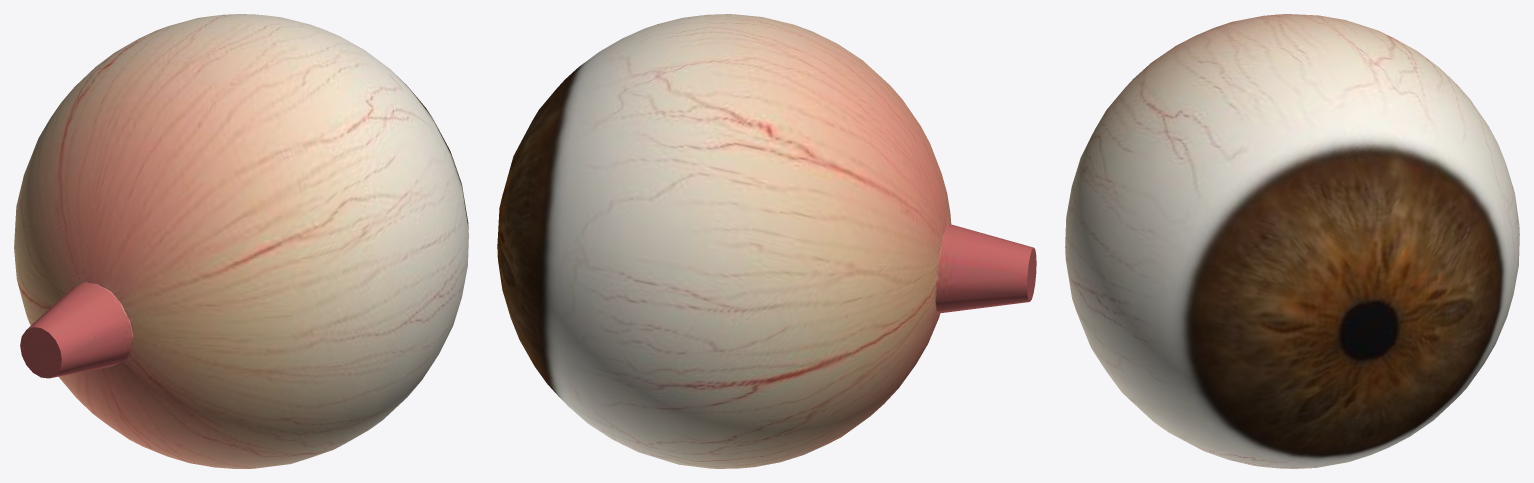
Rendered from eyeball.glb.
3 views of the same model, side by side, from view 1: azimuth 30°, elevation 25°; view 2: azimuth 150°, elevation 25°; view 3: azimuth 270°, elevation 25° (orthographic).
Visible parts, largest first — view 1: eyeball; view 2: eyeball; view 3: eyeball.
Boxes of the visible parts, box(x1,y1,x2,y2) form: eyeball: box(14, 14, 468, 468); eyeball: box(497, 14, 1036, 468); eyeball: box(1065, 14, 1519, 468).
Bounding box in the file's own units: 0.06 × 0.0516 × 0.0515.
Materials: 1 (1 with a texture image).
